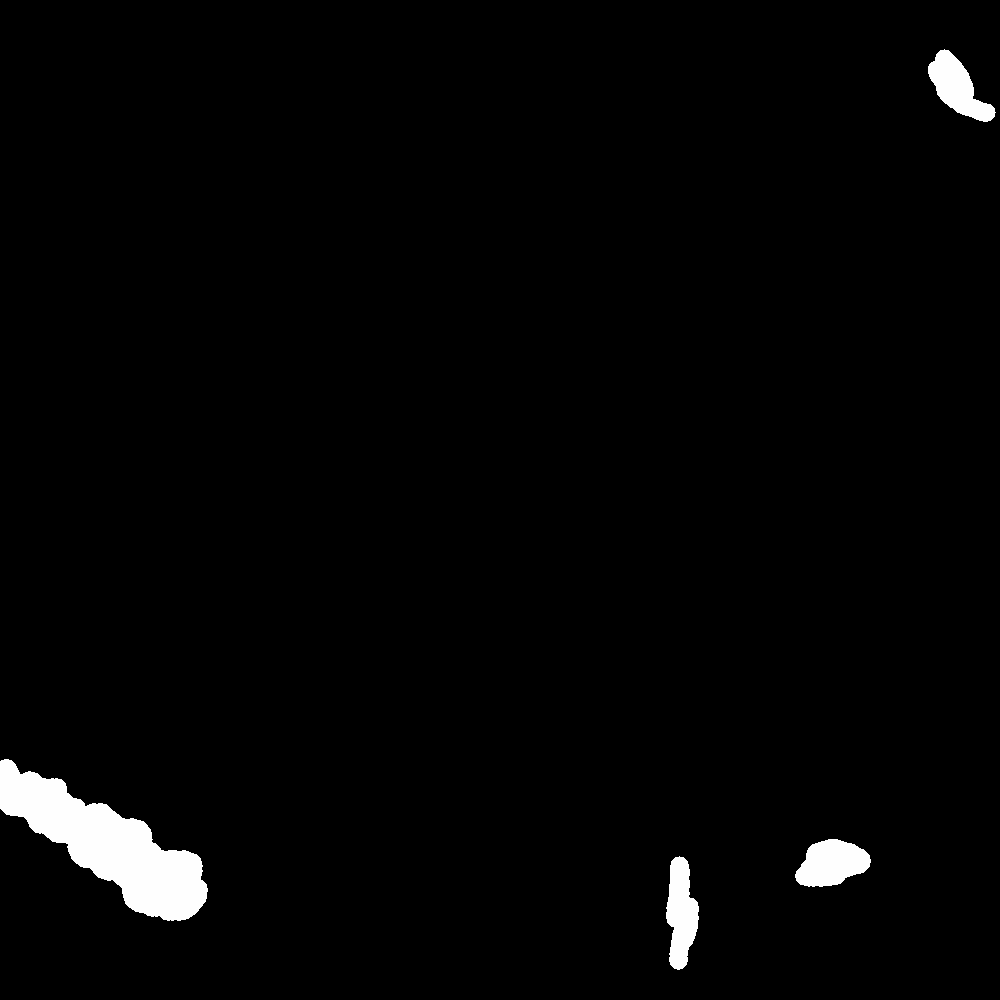illegal: (1, 754, 218, 936), (742, 841, 872, 897), (651, 854, 702, 970)
